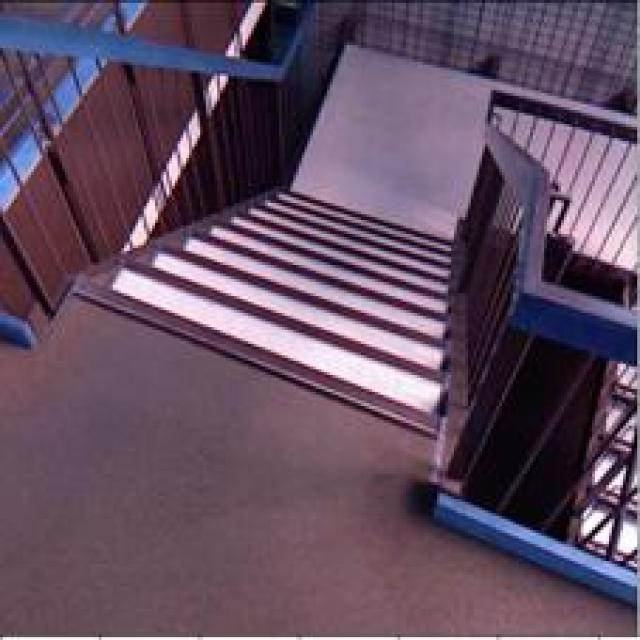stair: (76, 191, 452, 434)
